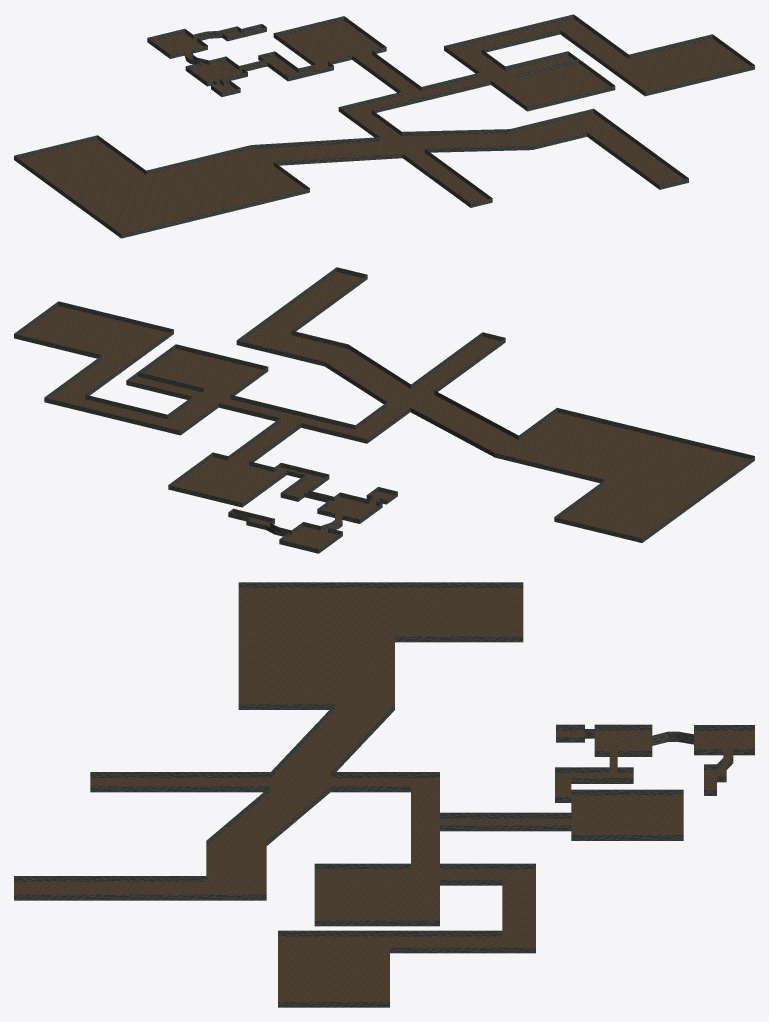
3 renders of one model, top to bottom at view 1: azimuth 30°, elevation 25°; view 2: azimuth 150°, elevation 25°; view 3: azimuth 270°, elevation 25°, orthographic. The views are drawn at different scales.
Visible parts, largest first — view 1: Plane; view 2: Plane; view 3: Plane.
Boxes of the visible parts, x1,y1,x2,y2 form: Plane: [14, 14, 754, 238]; Plane: [14, 267, 754, 553]; Plane: [14, 582, 754, 1007].
Bounding box in the file's own units: 1547 × 10 × 1155.
Materials: 2 (2 with a texture image).
